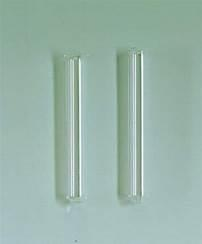Test tube: (47, 45, 88, 204), (110, 40, 148, 211)
